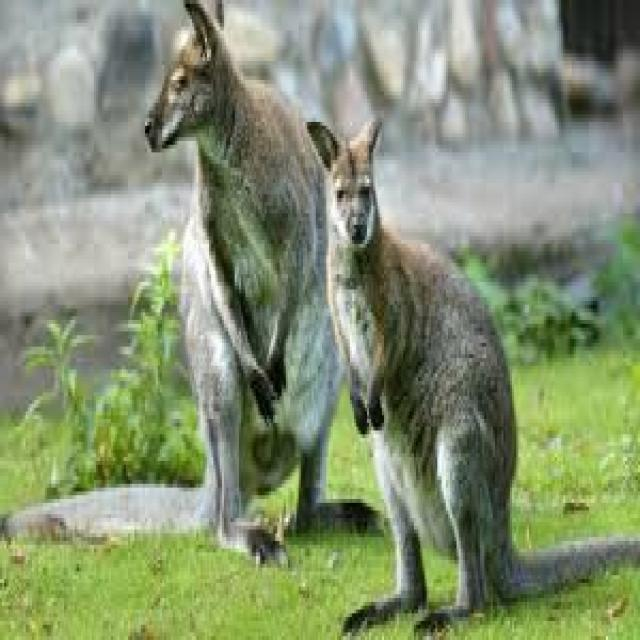kangaroo: (6, 0, 378, 560), (307, 118, 640, 625)
